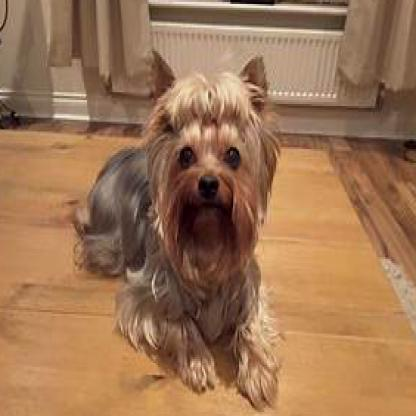dog: (78, 47, 283, 406)
